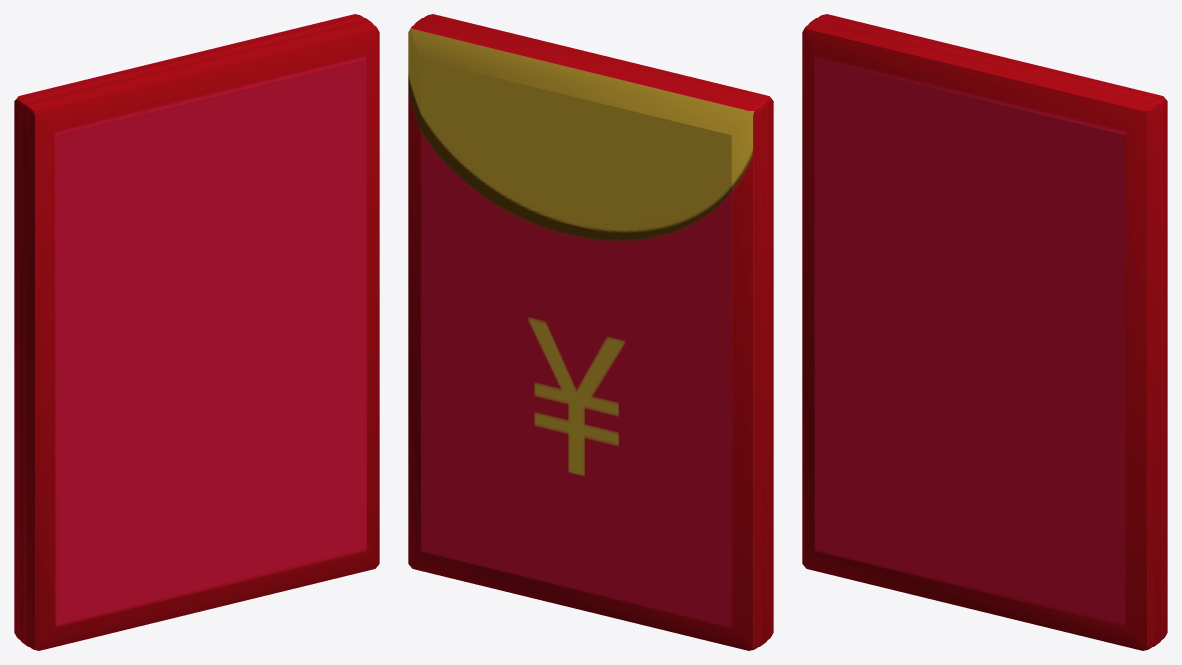
The model's file is gift4.glb.
3 renders of one model, left to right at view 1: azimuth 30°, elevation 25°; view 2: azimuth 150°, elevation 25°; view 3: azimuth 330°, elevation 25°, orthographic.
Parts seen in each view (by area): view 1: hb; view 2: hb; view 3: hb.
Boxes of the visible parts, x1,y1,x2,y2 form: hb: [14, 14, 379, 650]; hb: [408, 14, 773, 650]; hb: [802, 14, 1167, 650].
Bounding box in the file's own units: 0.6079 × 0.907 × 0.0887.
Materials: 1 (1 with a texture image).
